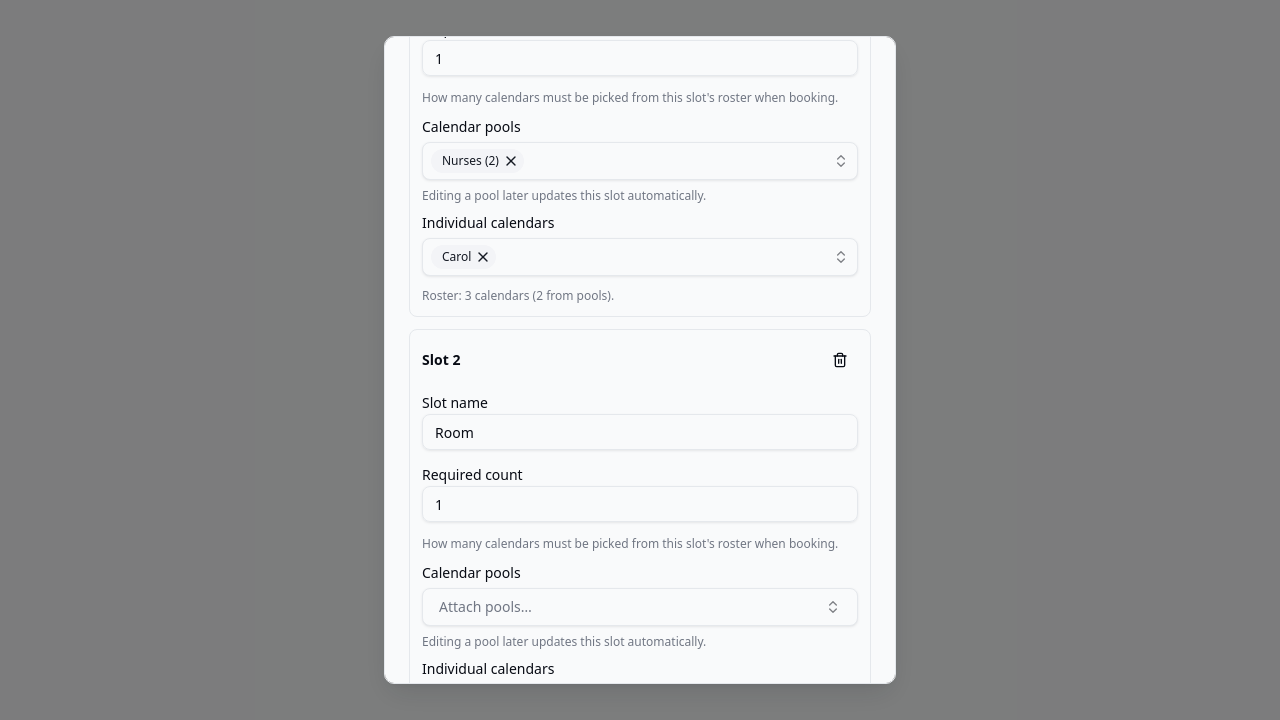
Test: AppointmentTypeFormDialog (edit mode) › warns when a saved slot is deleted outright
(page scrolled)
Expected: the element with test id "slot-editor-1" is shown, [409, 329, 871, 684]
Click the button named "remove slot 2" at (840, 360), box [822, 342, 858, 378]
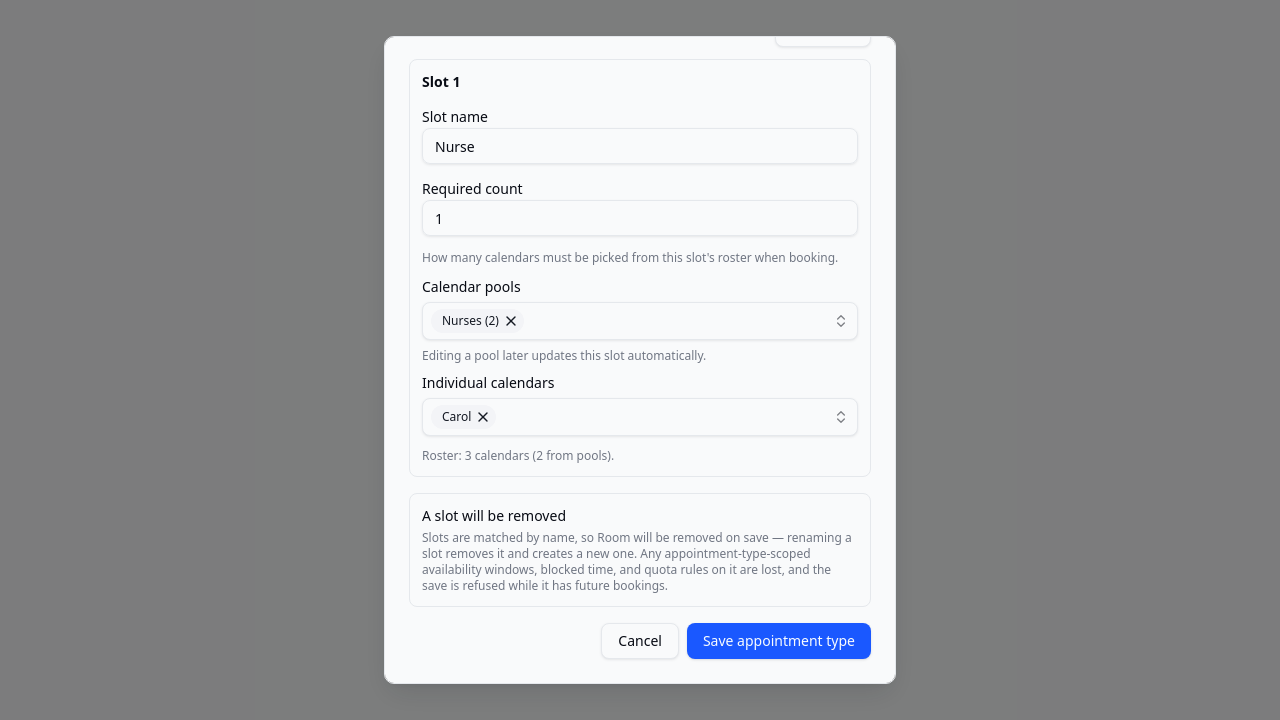
Result: the element with test id "dropped-slots-warning" shows "Room" at [597, 529, 630, 546]
